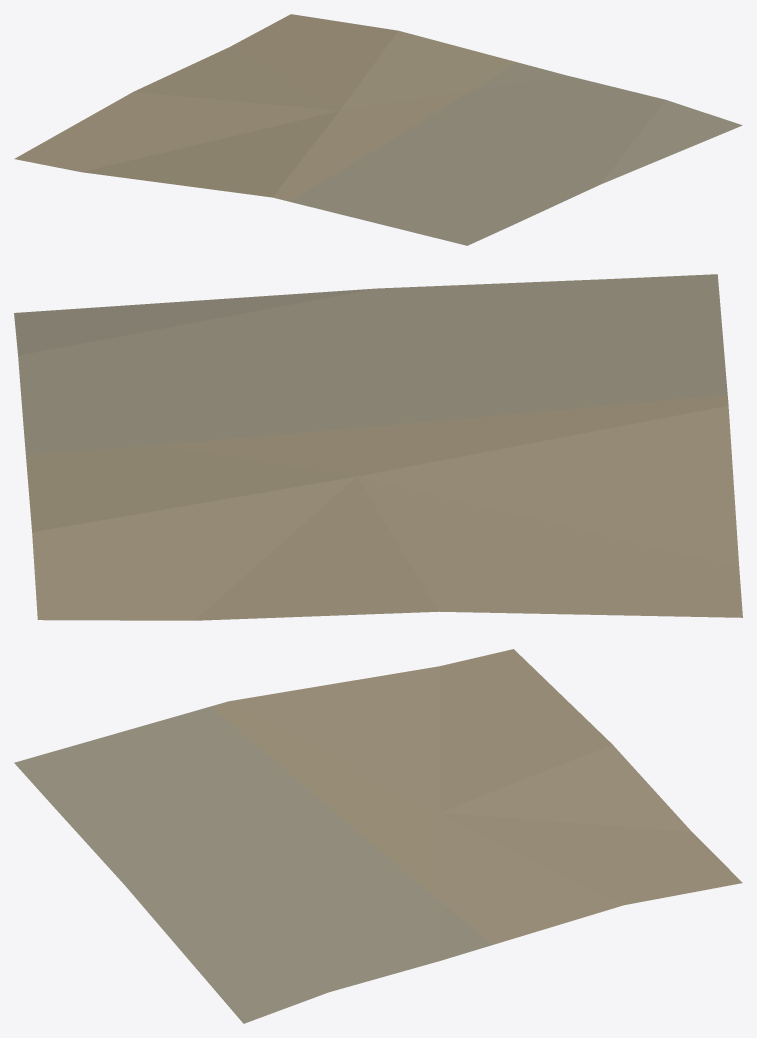
File: farm_2_-1_soil.glb
3 renders of one model, top to bottom at view 1: azimuth 30°, elevation 25°; view 2: azimuth 150°, elevation 25°; view 3: azimuth 270°, elevation 25°, orthographic. The views are drawn at different scales.
Visible parts, largest first — view 1: geometry_0; view 2: geometry_0; view 3: geometry_0.
Part boxes in pixels (bbox=[...]): geometry_0: bbox=[14, 14, 742, 245]; geometry_0: bbox=[14, 274, 742, 620]; geometry_0: bbox=[14, 649, 742, 1023].
Size of the model in its own units: 135 by 10.36 by 122.
